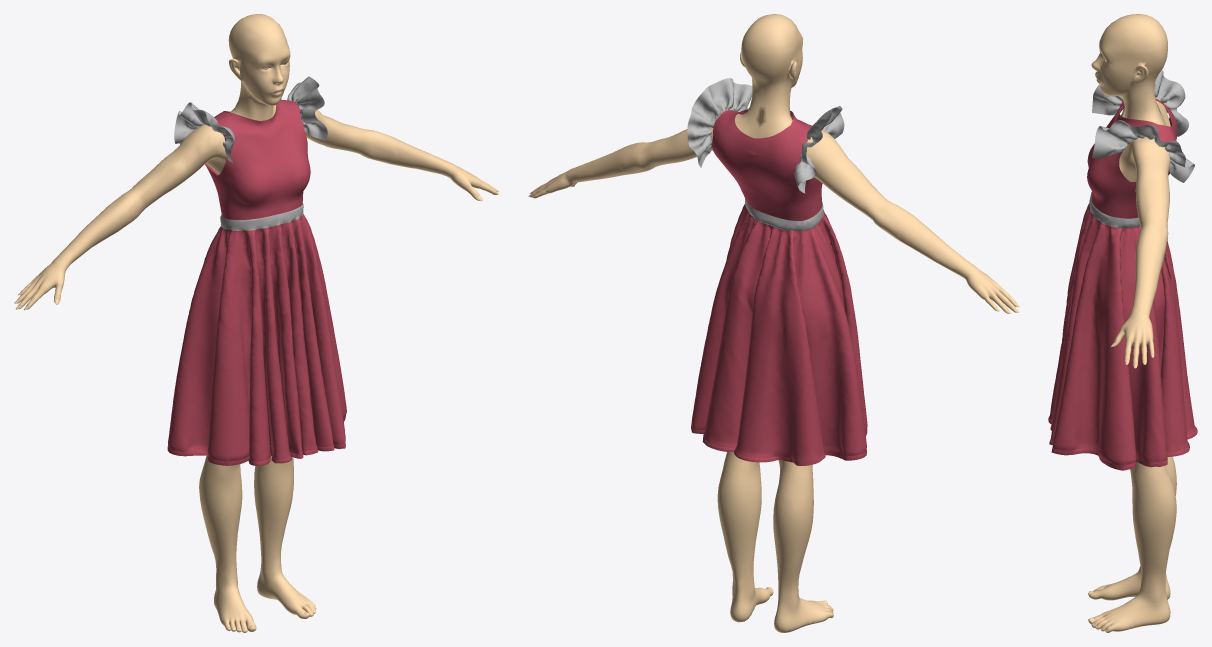
The model's file is dress4.glb.
3 renders of one model, left to right at view 1: azimuth 30°, elevation 25°; view 2: azimuth 150°, elevation 25°; view 3: azimuth 270°, elevation 25°, orthographic.
Parts seen in each view (by area): view 1: PinkDrees#14 (OBJ), Body; view 2: PinkDrees#14 (OBJ), Body; view 3: PinkDrees#14 (OBJ), Body.
Part boxes in pixels (box(x1,y1,x2,y2)): PinkDrees#14 (OBJ): box(167, 76, 346, 465); Body: box(17, 14, 498, 632); PinkDrees#14 (OBJ): box(687, 78, 867, 465); Body: box(529, 14, 1016, 632); PinkDrees#14 (OBJ): box(1048, 70, 1197, 470); Body: box(1088, 14, 1176, 632).
Size of the model in its own units: 1.58 by 1.85 by 0.4187.
